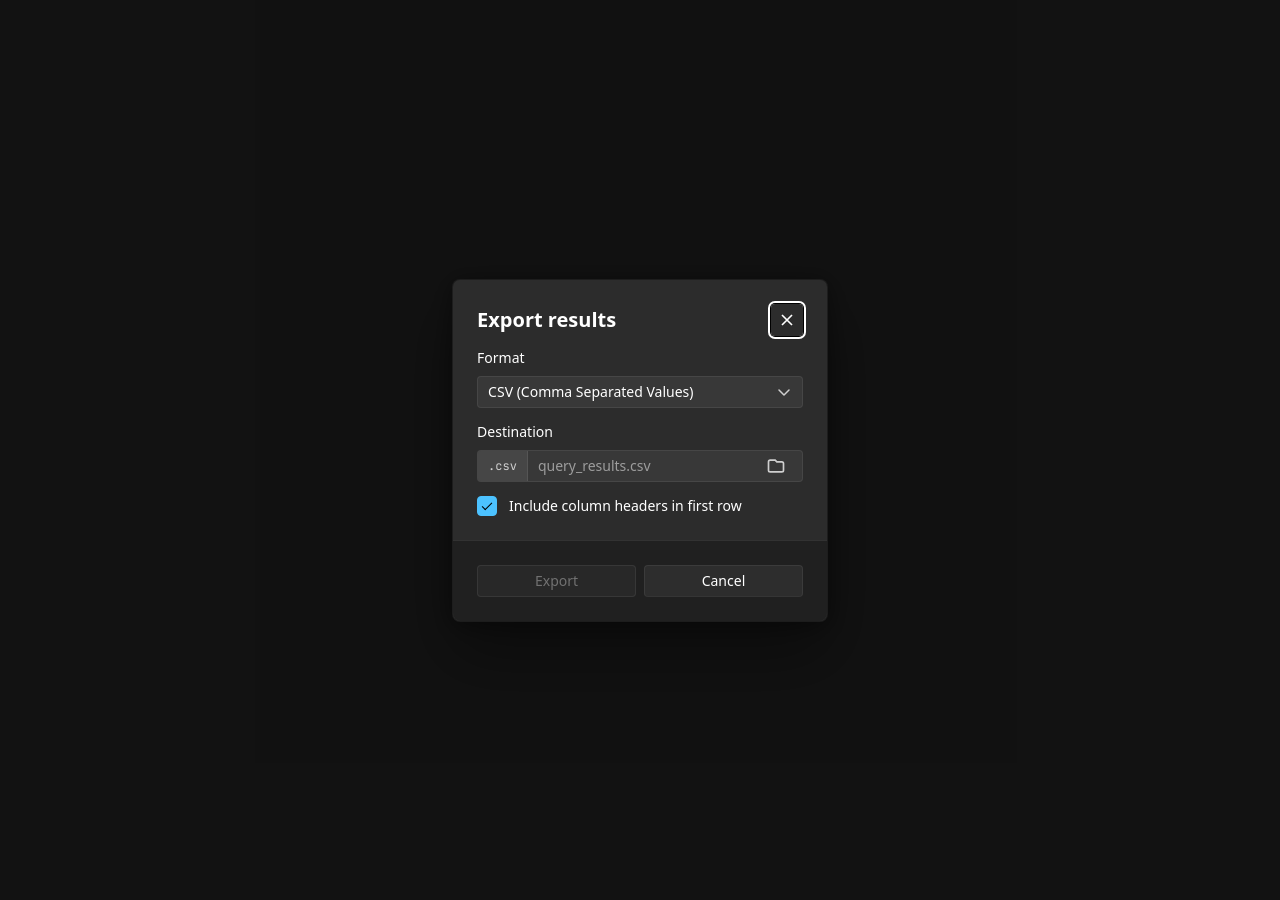
Test: ExportDialog › format selector changes update state
Click the dropdown with test id "export-format-select": click(640, 392) x1=477 y1=376 x2=803 y2=408
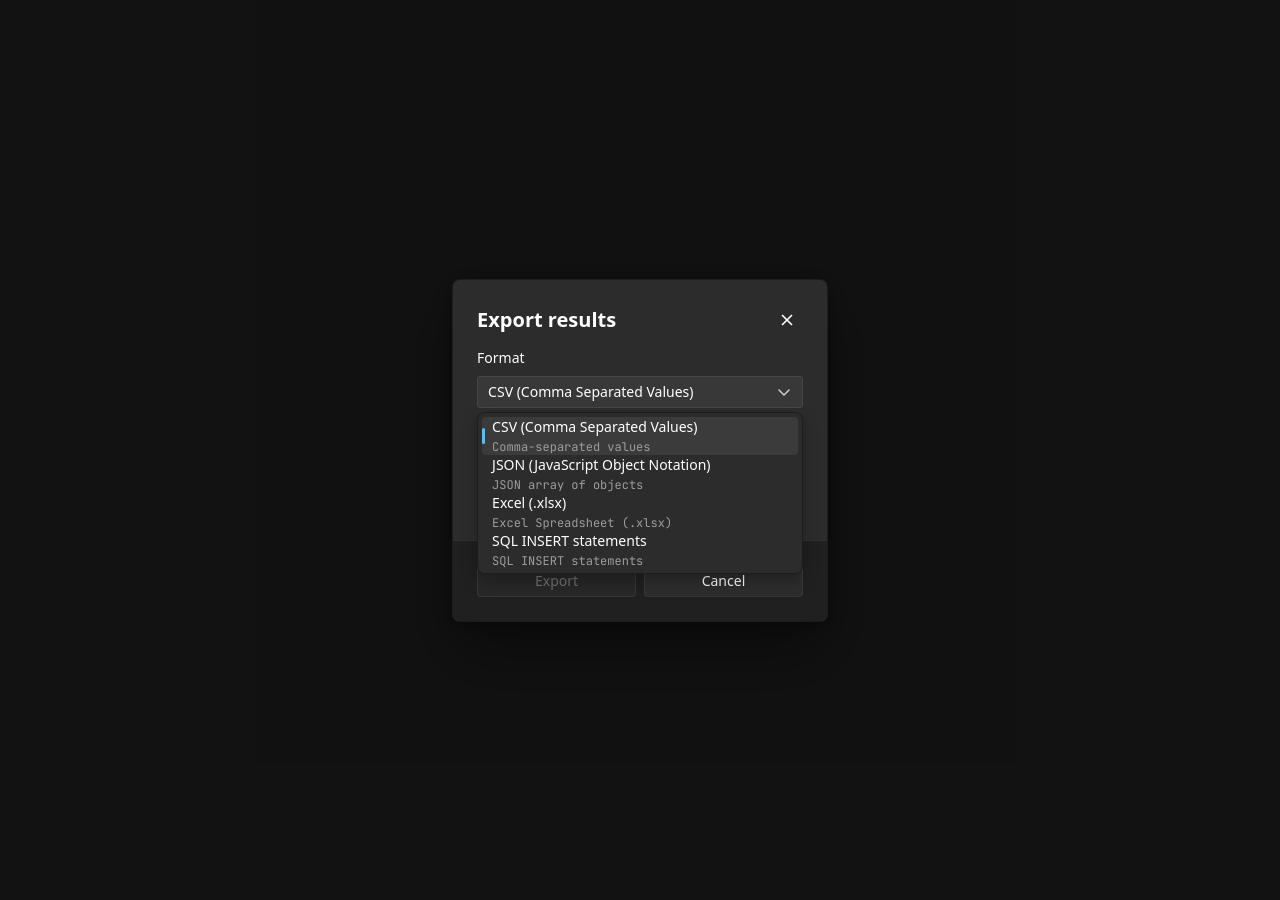
Click the option "JSON (JavaScript Object Notation) JSON array of objects": click(601, 474) x1=492 y1=454 x2=710 y2=492
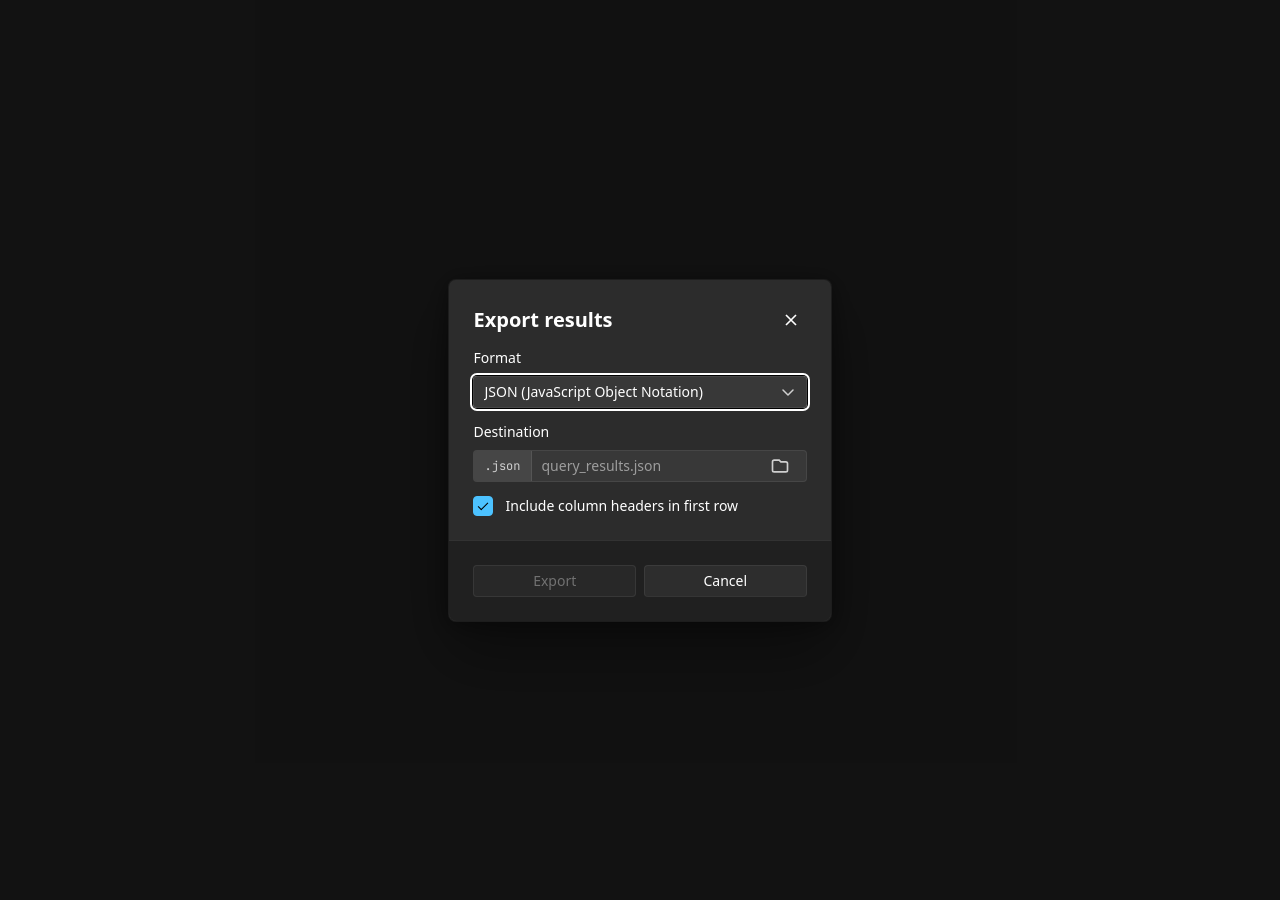
Check: the dropdown with test id "export-format-select" shows "JSON"
Click the dropdown with test id "export-format-select": click(640, 392) x1=474 y1=376 x2=806 y2=408
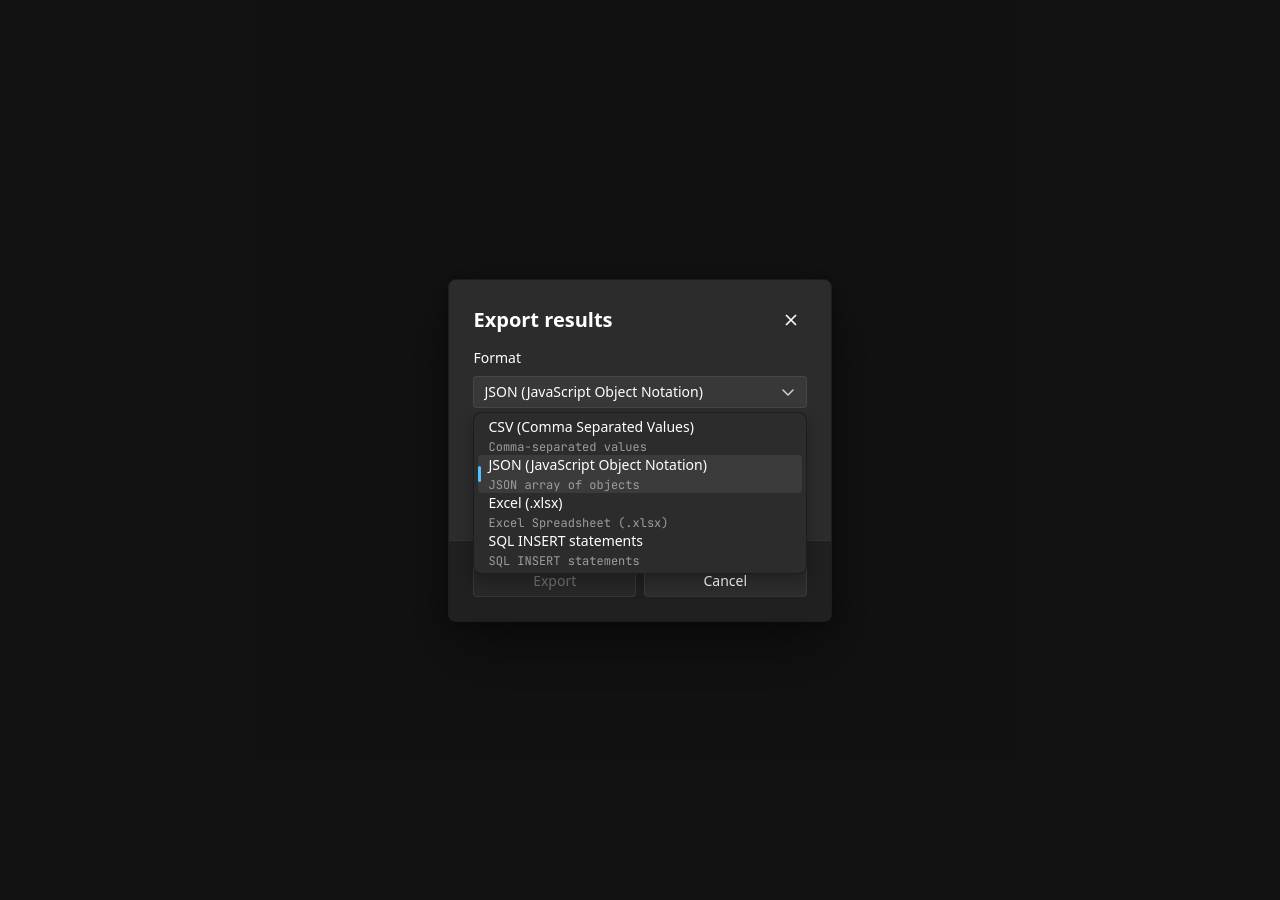
Click the option "Excel (.xlsx) Excel Spreadsheet (.xlsx)": click(578, 512) x1=488 y1=492 x2=668 y2=530
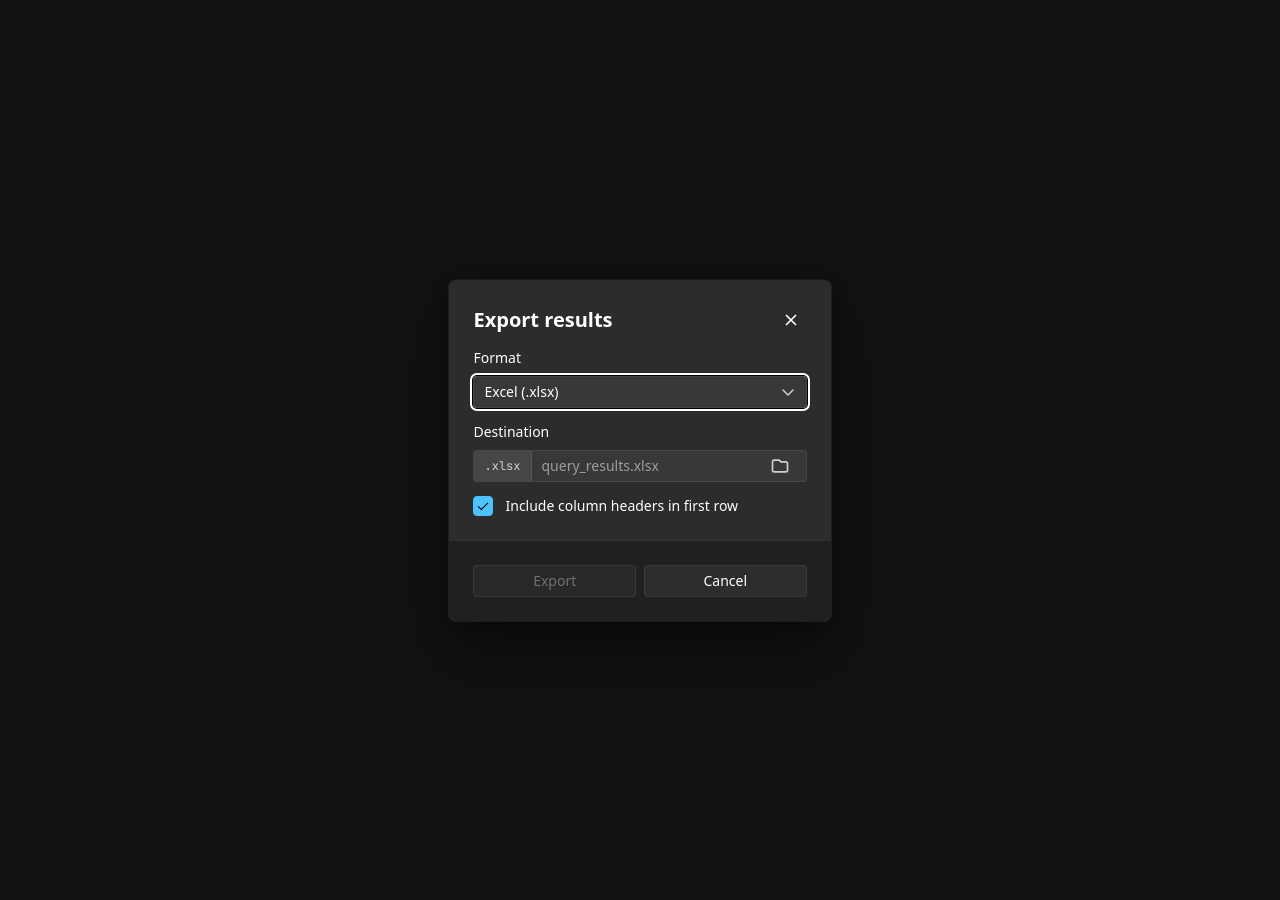
Check: the dropdown with test id "export-format-select" shows "Excel"
Click the dropdown with test id "export-format-select": click(522, 391) x1=474 y1=376 x2=806 y2=408
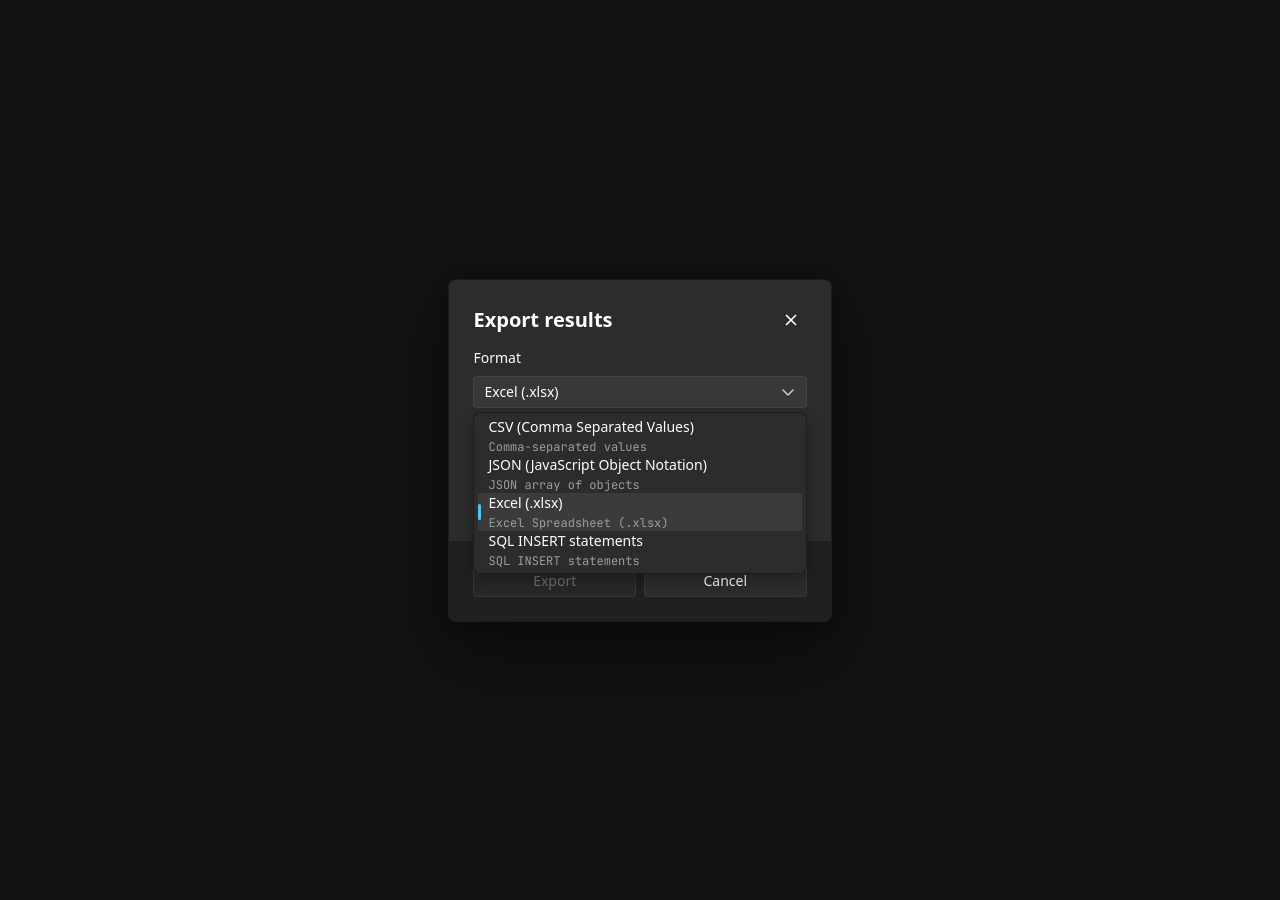
Click the option "SQL INSERT statements SQL INSERT statements": click(566, 550) x1=488 y1=530 x2=643 y2=568
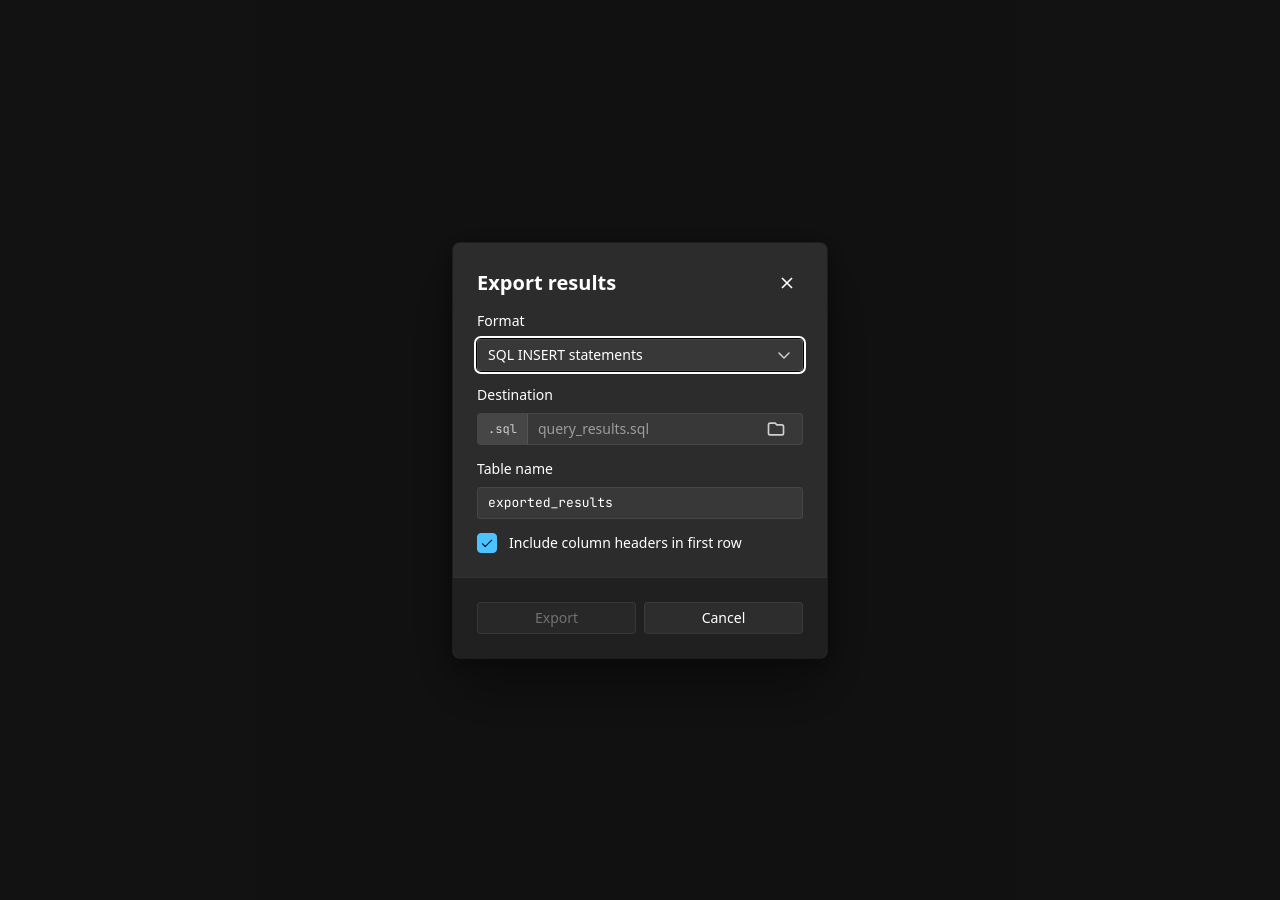
Check: the dropdown with test id "export-format-select" shows "SQL INSERT", box x1=477 y1=338 x2=803 y2=370
